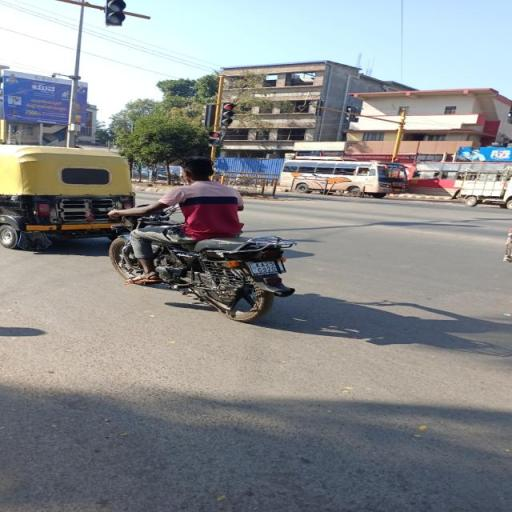bike: (104, 153, 306, 324)
numberplate: (246, 254, 286, 278)
withouthelmet: (181, 157, 214, 180)
